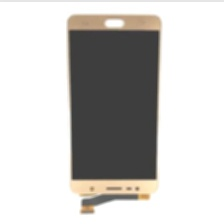phone: (62, 12, 164, 196)
